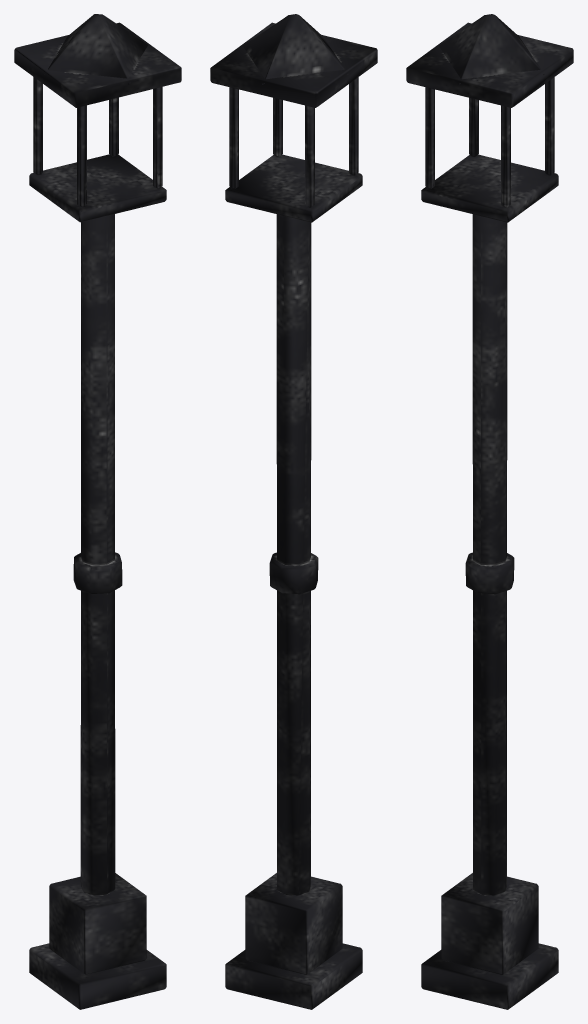
Rendered from Prop_Farola.fbx.
3 views of the same model, side by side, from view 1: azimuth 30°, elevation 25°; view 2: azimuth 150°, elevation 25°; view 3: azimuth 330°, elevation 25° (orthographic).
Visible parts, largest first — view 1: Prop_Farola; view 2: Prop_Farola; view 3: Prop_Farola.
Part boxes in pixels (x1,y1,x2,y2): Prop_Farola: (14, 14, 181, 1009); Prop_Farola: (210, 14, 377, 1009); Prop_Farola: (406, 14, 573, 1009).
Bounding box in the file's own units: 1.72 × 14.6 × 1.72.
